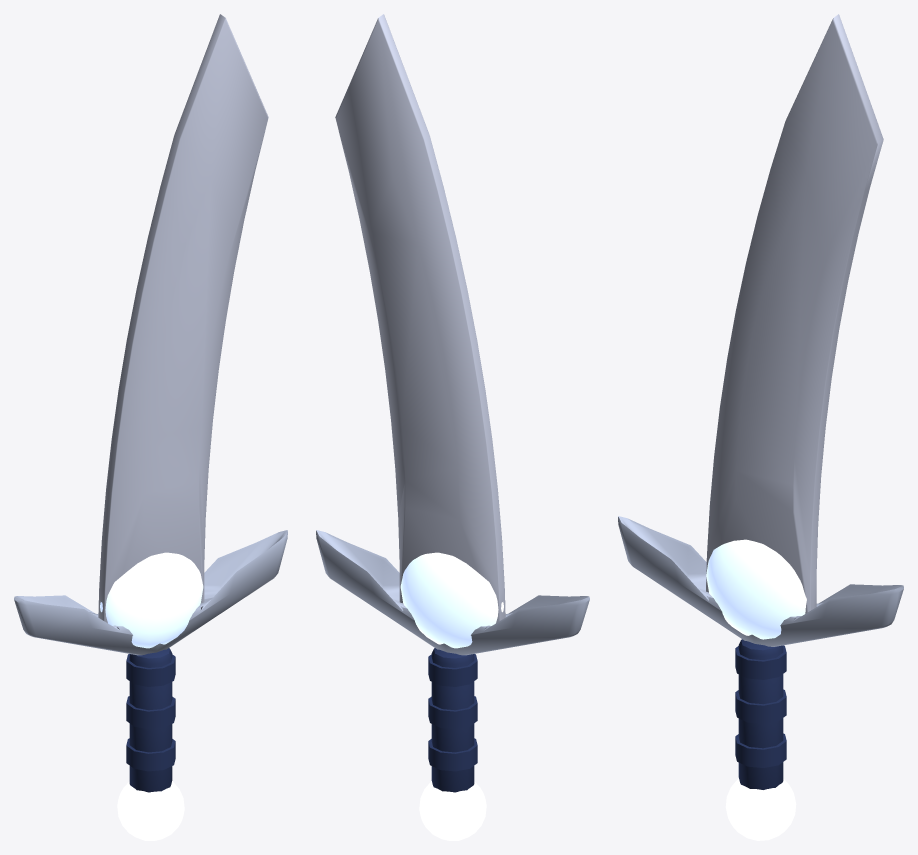
Rendered from moon.glb.
3 renders of one model, left to right at view 1: azimuth 30°, elevation 25°; view 2: azimuth 150°, elevation 25°; view 3: azimuth 330°, elevation 25°, orthographic. The views are drawn at different scales.
Visible parts, largest first — view 1: wpn_moon; view 2: wpn_moon; view 3: wpn_moon.
Part boxes in pixels (x1=…): wpn_moon: x1=14, y1=14, x2=287, y2=840; wpn_moon: x1=316, y1=14, x2=589, y2=840; wpn_moon: x1=618, y1=14, x2=903, y2=840.
Size of the model in its own units: 0.652 by 1.83 by 0.14.
